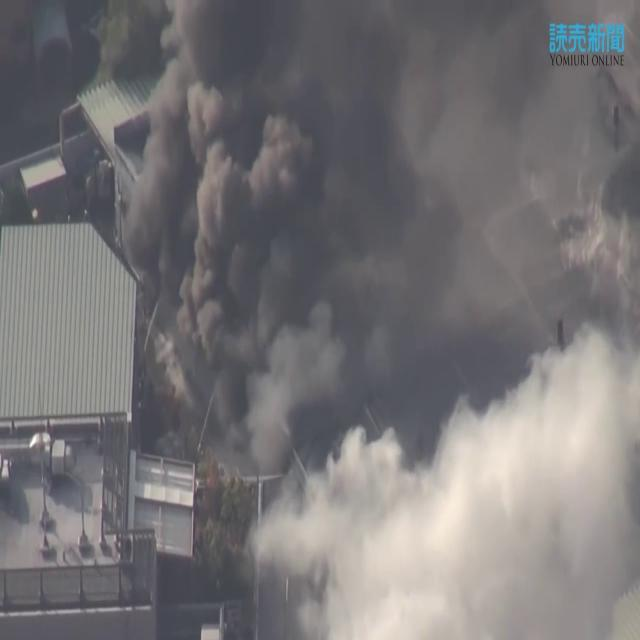Smoke: (109, 0, 638, 585)
